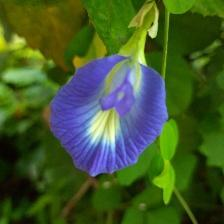shankupushpam: (50, 1, 173, 180)
